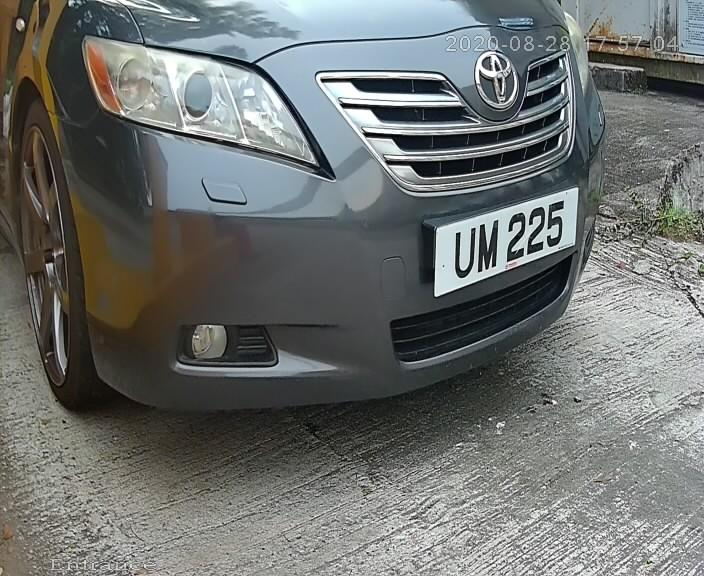Car: (1, 8, 648, 453)
License Plate: (406, 170, 594, 314)
